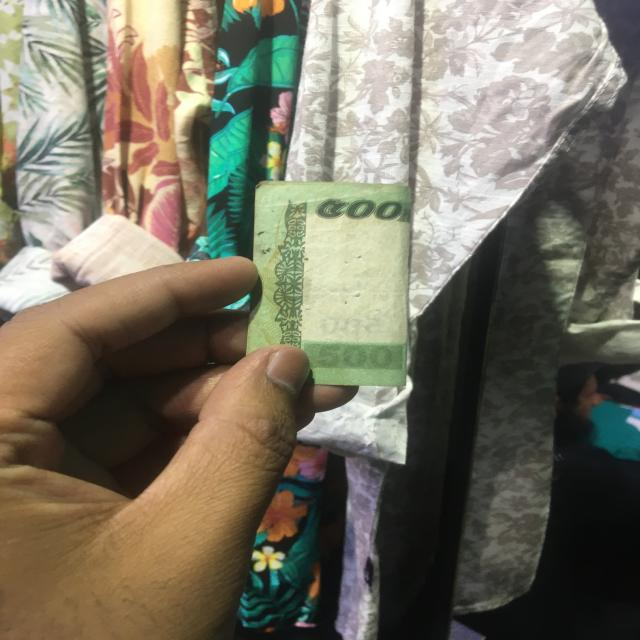Taka: (253, 183, 413, 388)
